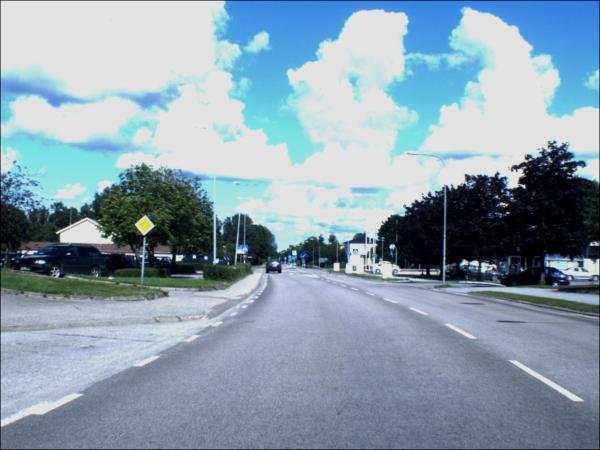50_SIGN: (242, 255, 247, 260)
PASS_RIGHT_SIDE: (300, 253, 308, 261), (293, 257, 297, 261), (291, 258, 293, 261)
PEDESTRIAN_CROSSING: (243, 247, 249, 254), (353, 251, 359, 257), (292, 251, 297, 257), (293, 252, 297, 257)
PRIORITY_ROAD: (135, 214, 156, 238)
